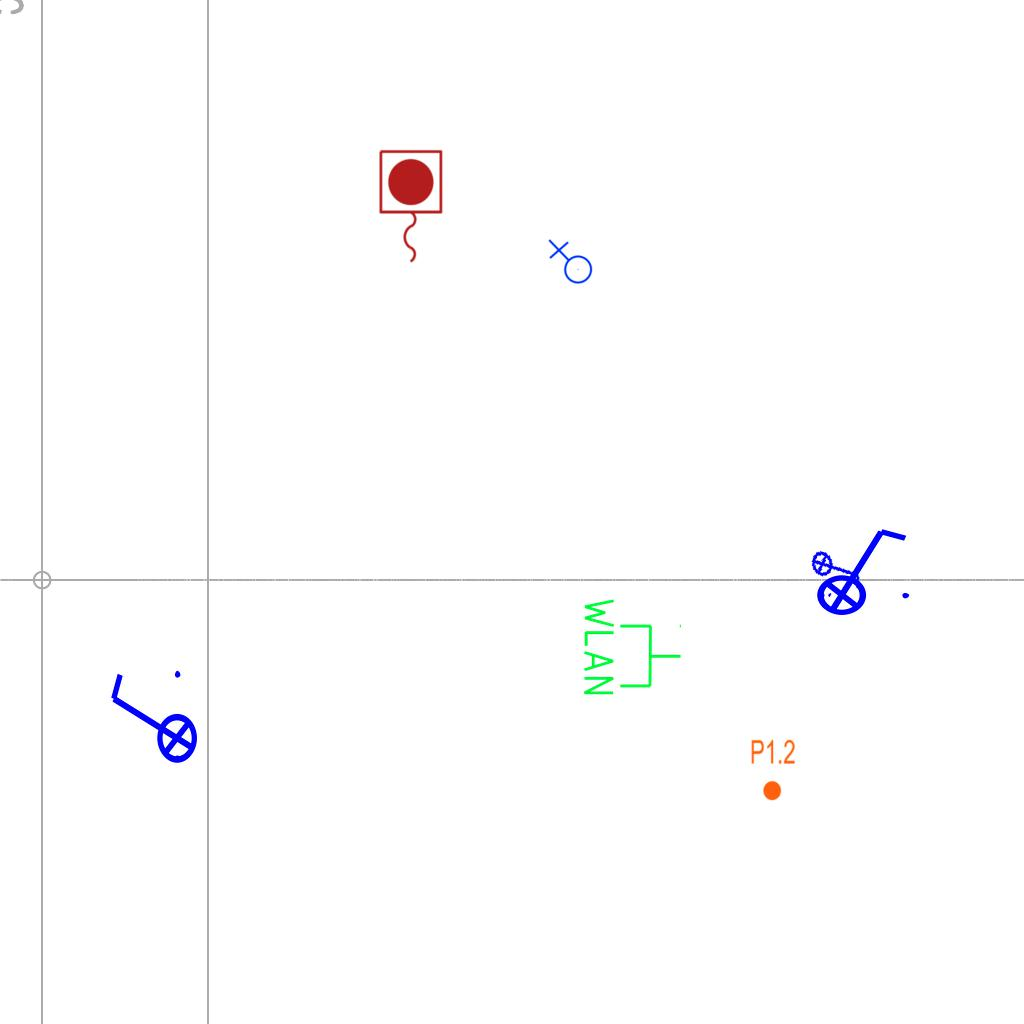Ausschalter_beleuchtet: (103, 665, 199, 777), (803, 521, 915, 617), (806, 536, 868, 602)
Downlight_LED_Einbauleuchten_Flur: (750, 738, 796, 802)
Elektroanschluss_allgemein_230V_Geraeteanschlussdose_230V: (546, 239, 593, 288)
WLAN: (580, 594, 684, 699)
Zugtaster: (374, 146, 446, 268)
